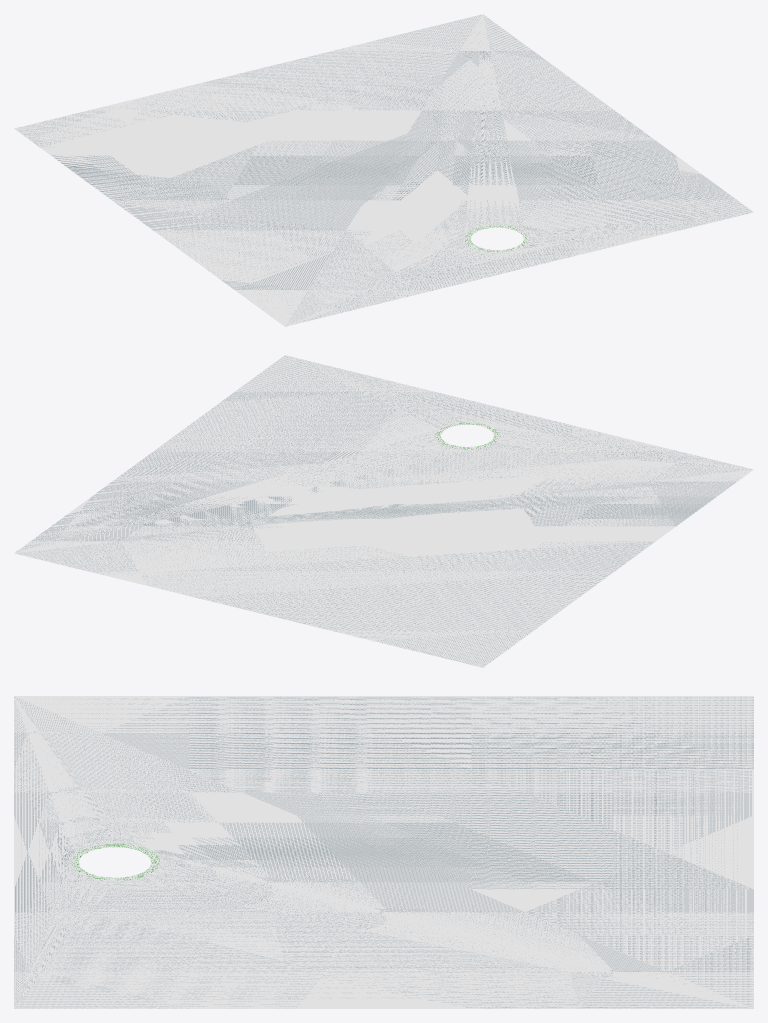
3 views of the same model, one above another, from view 1: azimuth 30°, elevation 25°; view 2: azimuth 150°, elevation 25°; view 3: azimuth 270°, elevation 25° (orthographic). The views are drawn at different scales.
Parts seen in each view (by area): view 1: Model; view 2: Model; view 3: Model.
Part boxes in pixels (<box>): Model: <box>14,14,753,326</box>; Model: <box>14,355,753,667</box>; Model: <box>14,696,753,1008</box>.
Bounding box in the file's own units: 51.06 × 0 × 51.06.
